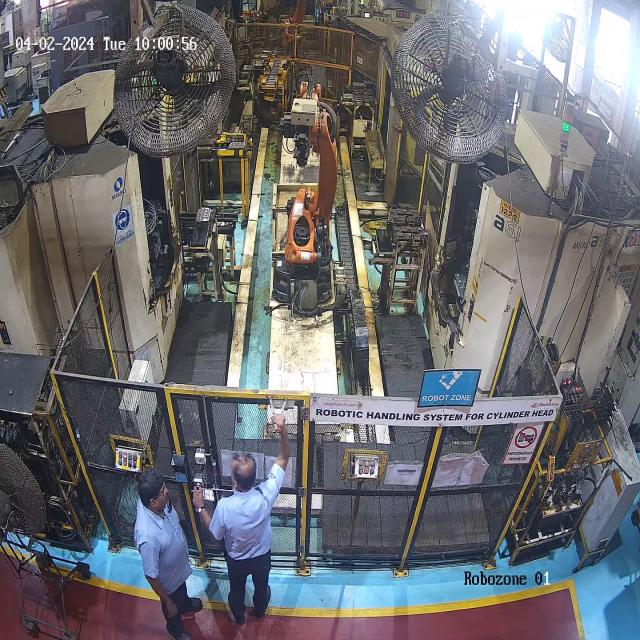person: (188, 413, 294, 626), (134, 469, 187, 640)
